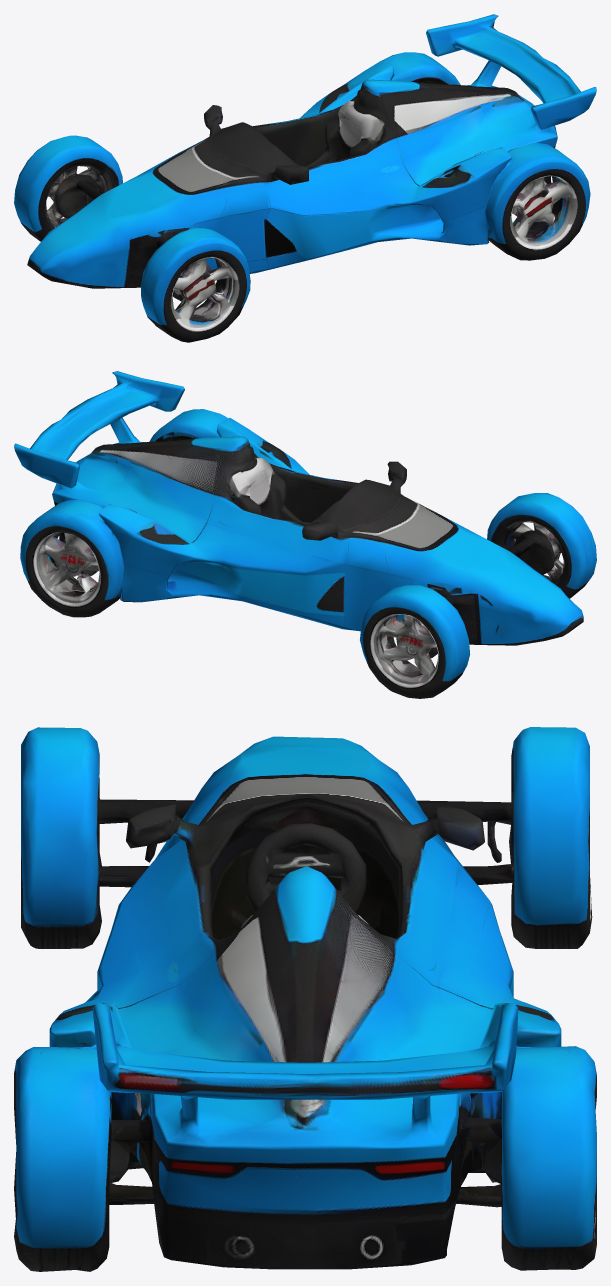
3 renders of one model, top to bottom at view 1: azimuth 30°, elevation 25°; view 2: azimuth 150°, elevation 25°; view 3: azimuth 270°, elevation 25°, orthographic. The views are drawn at different scales.
Size of the model in its own units: 1.91 by 0.5362 by 0.9589.
Materials: 1 (1 with a texture image).
